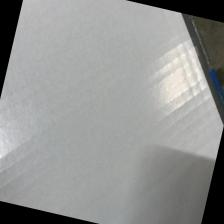Kertas: (0, 0, 222, 224)
